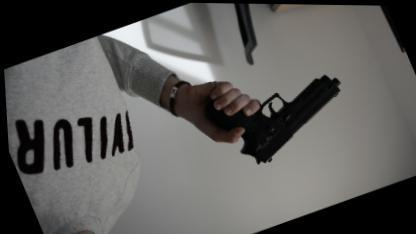pistol: (194, 54, 361, 177)
